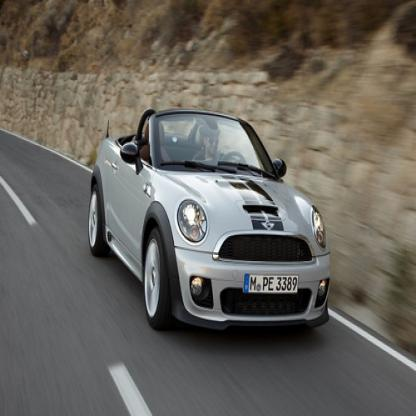Vehicle: (89, 108, 331, 338)
